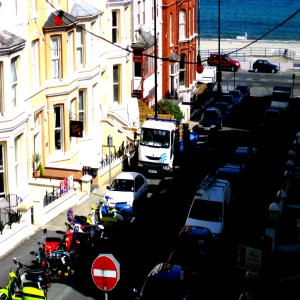Vehicle-registration-plate: (148, 171, 159, 174)
